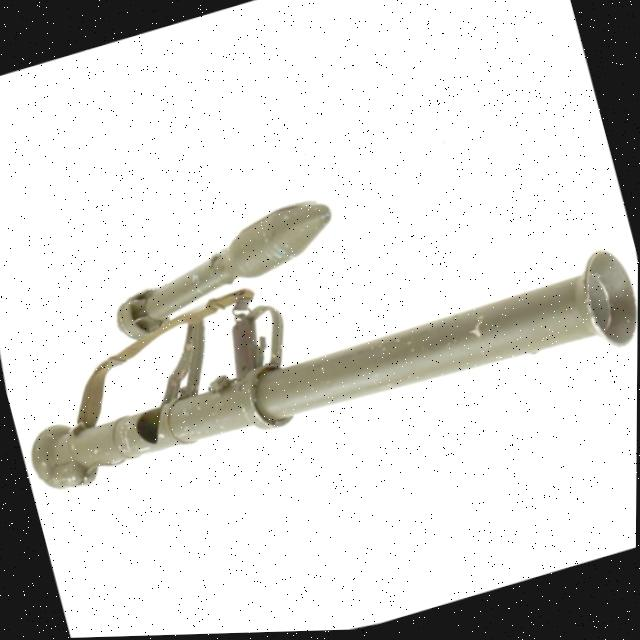rocket: (0, 105, 639, 546)
